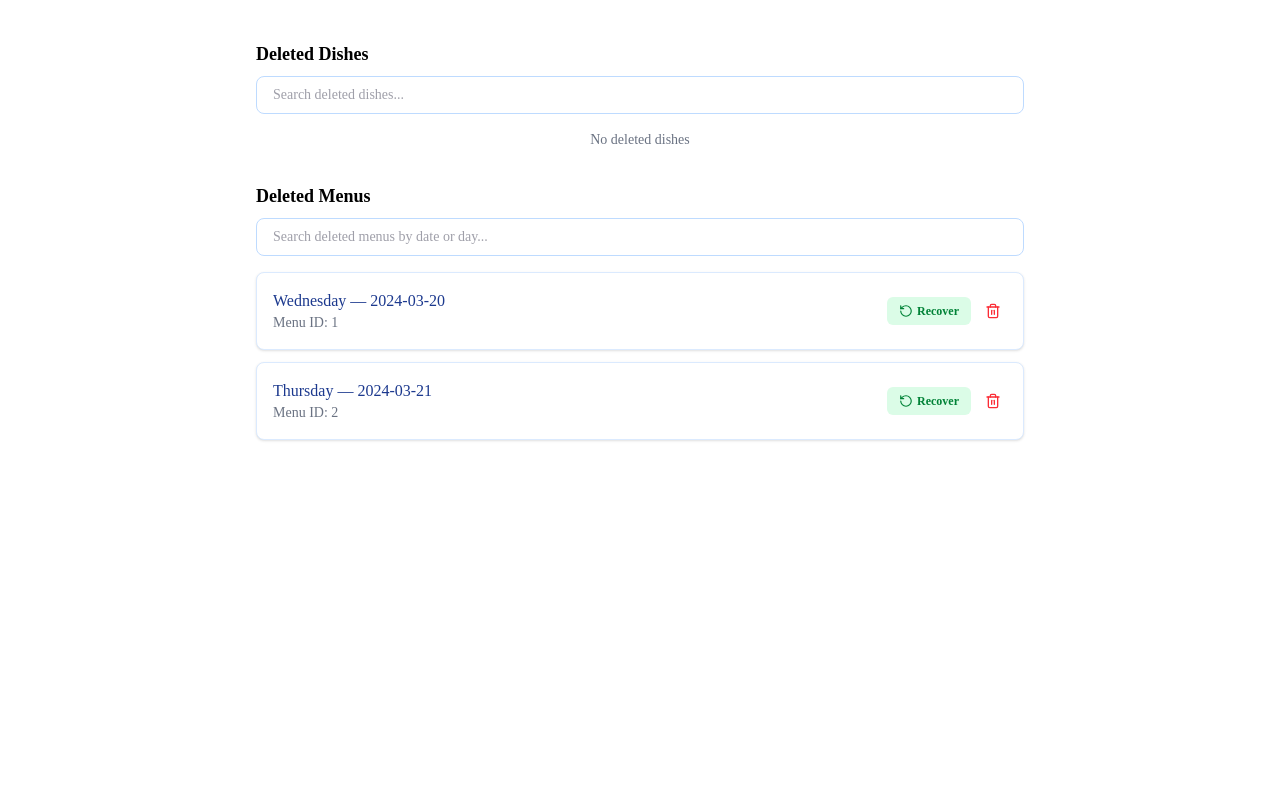
Test case: TrashBin › Hard Delete Functionality › shows confirmation dialog when delete button is clicked
Expected: the text "Wednesday — 2024-03-20" is shown, 273,289 -> 445,313
Click the button titled "Permanently delete menu" in the row of "2024-03-20": (993, 311) 979,297 -> 1007,325
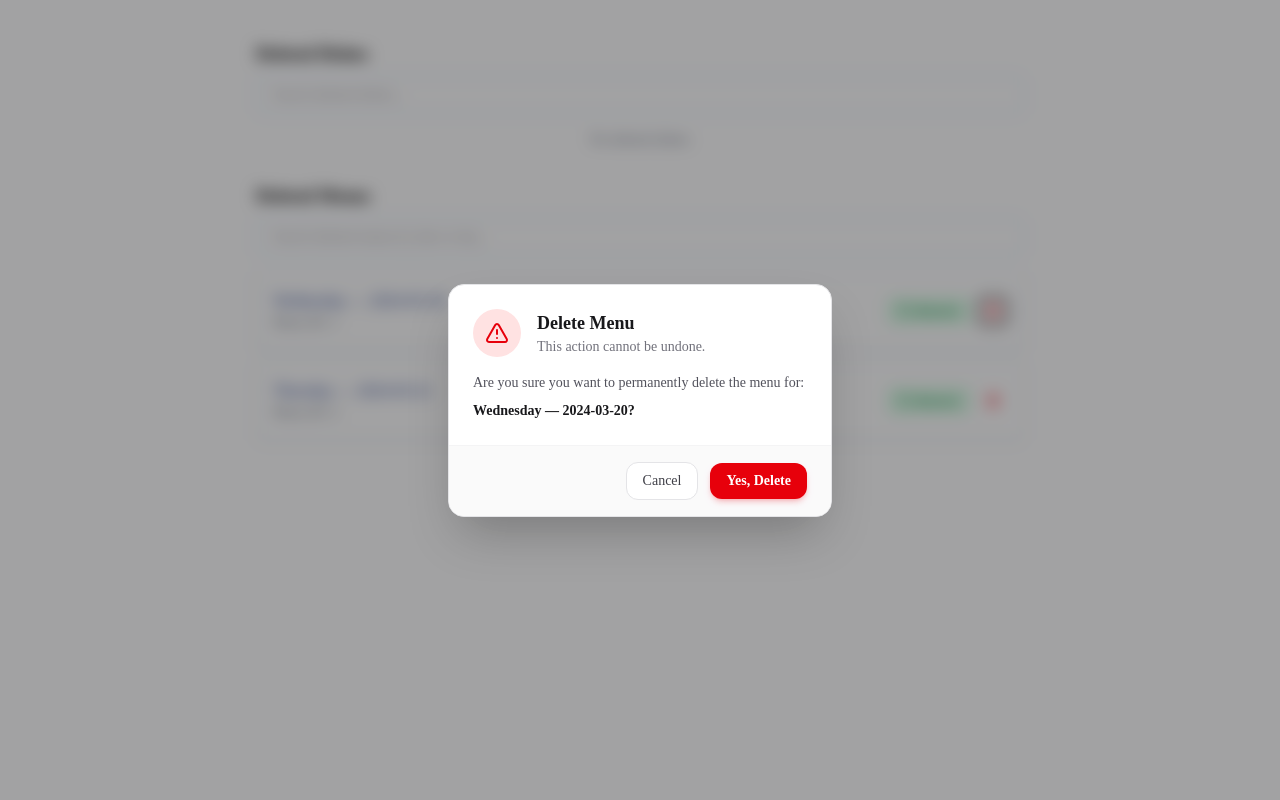
Expected: the heading "Delete Menu" is shown, 537,312 -> 634,332
Expected: the text "This action cannot be undone." is shown, 537,336 -> 705,356
Expected: the button "Yes, Delete" is shown, 710,462 -> 807,498
